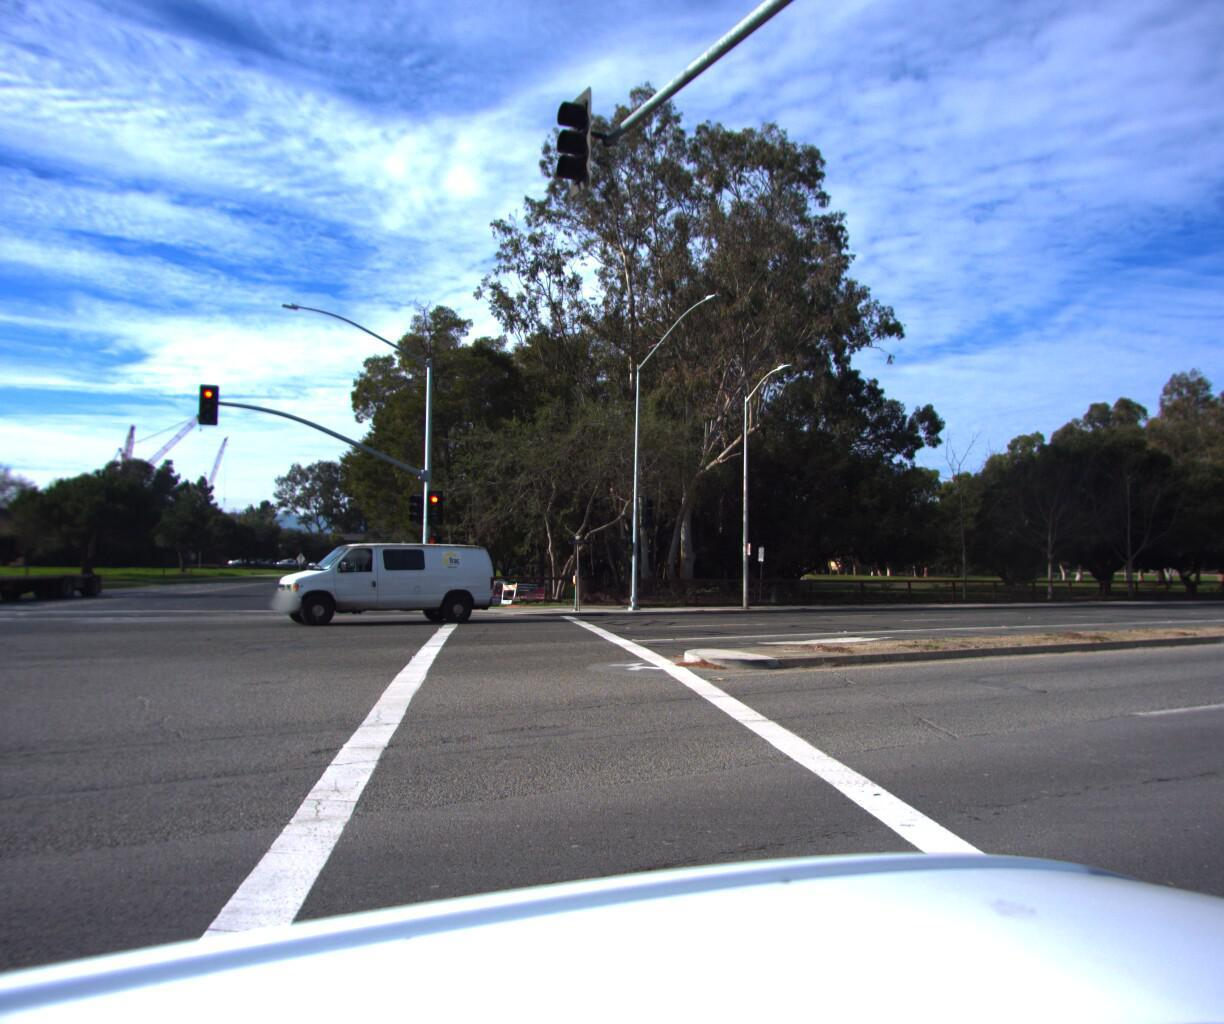car: (260, 533, 495, 622)
truck: (0, 502, 97, 634)
